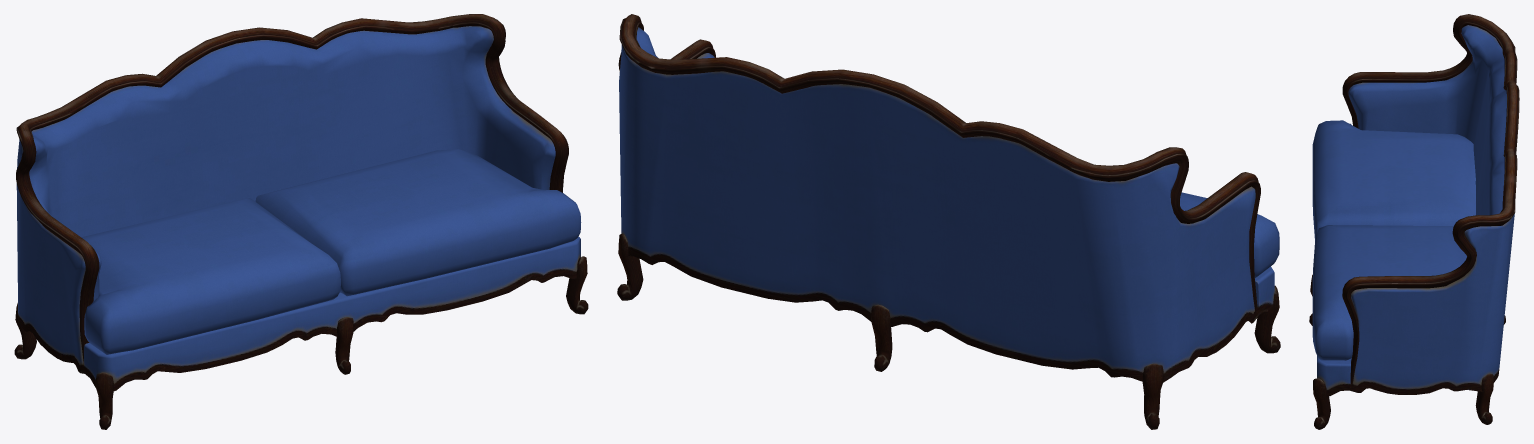
The model's file is linden_cobalt-wool.glb.
The picture shows the model from 3 angles, left to right: view 1: azimuth 30°, elevation 25°; view 2: azimuth 150°, elevation 25°; view 3: azimuth 270°, elevation 25°; orthographic projection. The views are drawn at different scales.
Visible parts, largest first — view 1: Sofa_01; view 2: Sofa_01; view 3: Sofa_01.
Part boxes in pixels (box(x1,y1,x2,y2)): Sofa_01: box(14, 14, 588, 429); Sofa_01: box(617, 14, 1280, 429); Sofa_01: box(1309, 14, 1519, 429).
Size of the model in its own units: 1.57 by 0.7965 by 0.658.
1 material, 1 textured.
